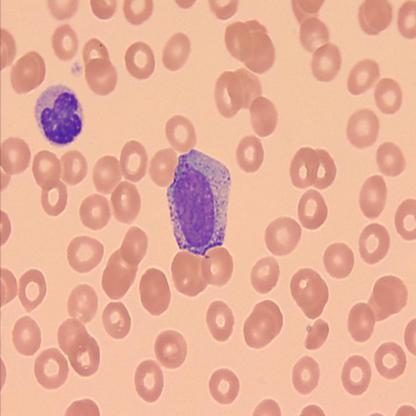Metamyelocyte: (164, 148, 234, 259), (35, 83, 86, 152)
